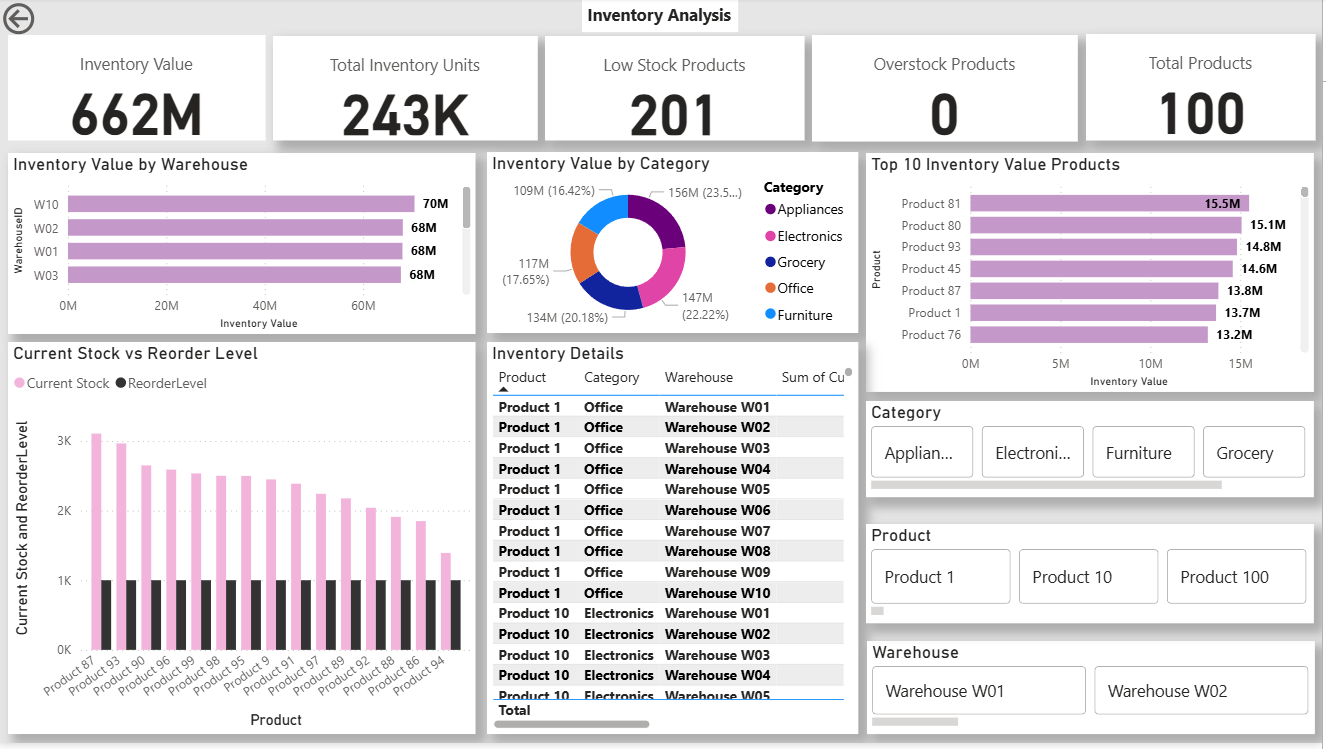

Layout of this report page (visuals, bound fields, positions):
{"tool":"powerbi","page":{"name":"Page 2","canvas":[1280,720],"ordinal":1},"visuals":[{"type":"cardVisual","fields":{"Data":["inventory.Inventory Value"]},"box":[9.7,36,249,102.1],"z":0},{"type":"cardVisual","fields":{"Data":["inventory.Total Inventory Units"]},"box":[265.5,37,255.8,101.2],"z":1000},{"type":"cardVisual","fields":{"Data":["inventory.Low Stock Products"]},"box":[529.1,37,250.9,101.2],"z":2000},{"type":"cardVisual","fields":{"Data":["inventory.Overstock Products","inventory.Overstock Products"]},"box":[786.9,36,256.8,103.1],"z":3000},{"type":"cardVisual","fields":{"Data":["products.Total Products"]},"box":[1051.4,35,221.8,103.1],"z":4000},{"type":"clusteredBarChart","title":"Inventory Value by Warehouse","fields":{"Category":["warehouses.WarehouseID"],"Y":["inventory.Inventory Value"]},"box":[9.7,149.8,452.3,175.1],"z":5000},{"type":"donutChart","fields":{"Category":["products.Category"],"Y":["inventory.Inventory Value"]},"box":[472.7,148.9,358.7,175],"z":6000},{"type":"clusteredColumnChart","title":"Current Stock vs Reorder Level","fields":{"Category":["products.Product"],"Y":["Sum(inventory.CurrentStock)","Sum(inventory.ReorderLevel)"]},"box":[9.7,332.6,452.4,379],"z":7000},{"type":"clusteredBarChart","title":"Top 10 Inventory Value Products","fields":{"Category":["products.Product"],"Y":["inventory.Inventory Value"]},"box":[839.2,149.8,433.1,231.1],"z":8000},{"type":"tableEx","title":"Inventory Details","fields":{"Values":["products.Product","products.Category","warehouses.Warehouse","Sum(inventory.CurrentStock)","Sum(inventory.ReorderLevel)","Sum(inventory.MaxStock)","inventory.Inventory Value"]},"box":[472.7,332.6,358.7,379],"z":9000},{"type":"actionButton","box":[0,0,100,40],"z":10000},{"type":"advancedSlicerVisual","fields":{"Values":["products.Category"]},"box":[839.2,389.6,433.1,92.8],"z":11000},{"type":"advancedSlicerVisual","fields":{"Values":["warehouses.Warehouse"]},"box":[840.1,621.6,433.1,89.9],"z":12000},{"type":"advancedSlicerVisual","fields":{"Values":["products.Product"]},"box":[839.2,508.5,433.1,95.7],"z":13000},{"type":"textbox","box":[564.6,0,150.8,32.9],"z":14000}]}

Visuals, with their boxes on the page's 1280x720 design canvas (x1, y1, x2, y2). These are canvas units, not pixel positions in the 1326x749 screenshot, which may show the page scaled, cropped or inside an application window:
cardVisual - inventory.Inventory Value: 10,36,259,138
cardVisual - inventory.Total Inventory Units: 266,37,521,138
cardVisual - inventory.Low Stock Products: 529,37,780,138
cardVisual - inventory.Overstock Products x inventory.Overstock Products: 787,36,1044,139
cardVisual - products.Total Products: 1051,35,1273,138
"Inventory Value by Warehouse" clusteredBarChart: 10,150,462,325
donutChart - products.Category x inventory.Inventory Value: 473,149,831,324
"Current Stock vs Reorder Level" clusteredColumnChart: 10,333,462,712
"Top 10 Inventory Value Products" clusteredBarChart: 839,150,1272,381
"Inventory Details" tableEx: 473,333,831,712
actionButton: 0,0,100,40
advancedSlicerVisual - products.Category: 839,390,1272,482
advancedSlicerVisual - warehouses.Warehouse: 840,622,1273,712
advancedSlicerVisual - products.Product: 839,508,1272,604
textbox: 565,0,715,33
